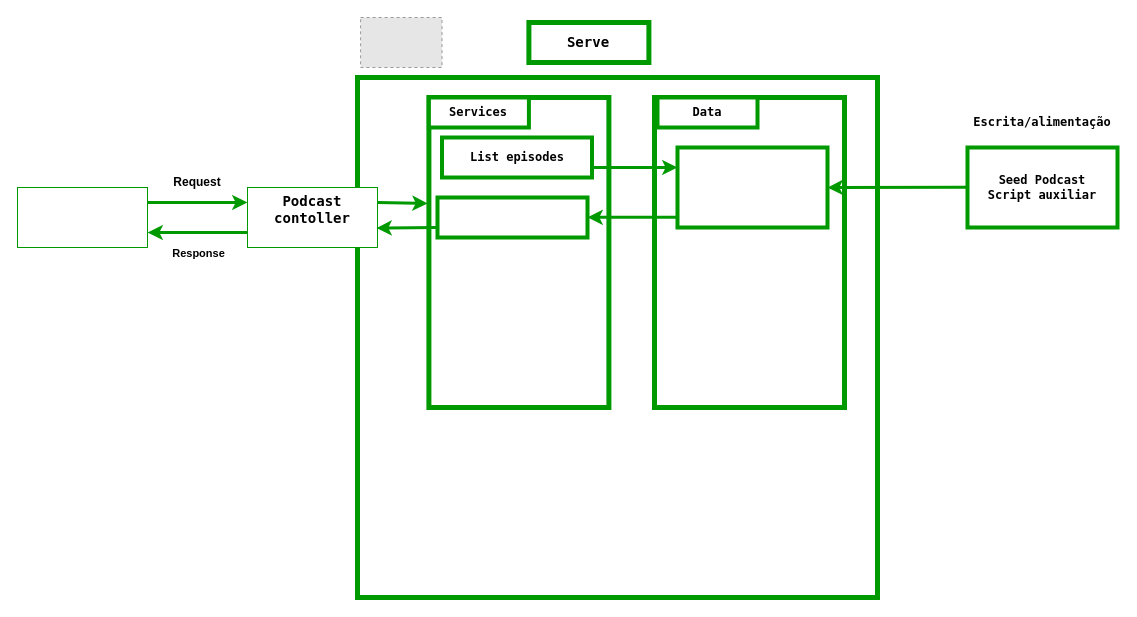
Some shapes in this 1137 by 617 pixel diagram are drawn without their labels. Grey dashed boxes stand in for pictures. Here are the shapes that lost their labels. From the top down, the centre of each, then its label:
At (x=752, y=187): "Repositório de episodios cadastrados".
At (x=82, y=217): "Port: 3333".
At (x=512, y=217): "Filter episodes".
